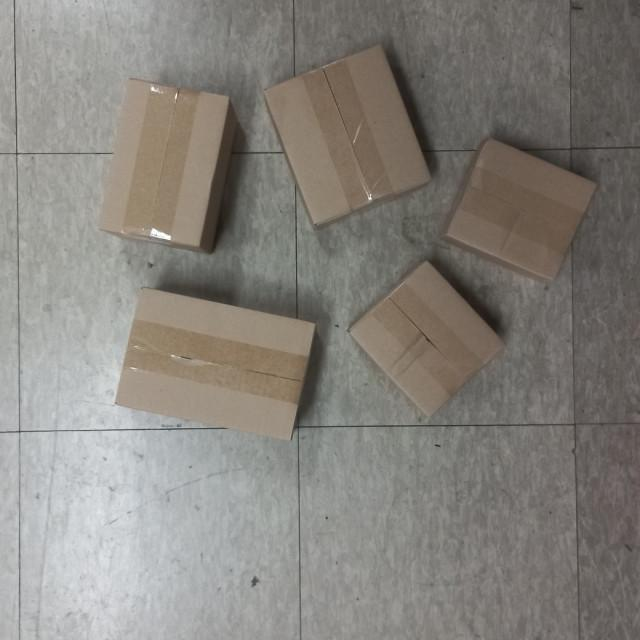box: (258, 32, 438, 234), (107, 282, 320, 448), (342, 253, 514, 427), (438, 129, 602, 289), (94, 74, 236, 250)
